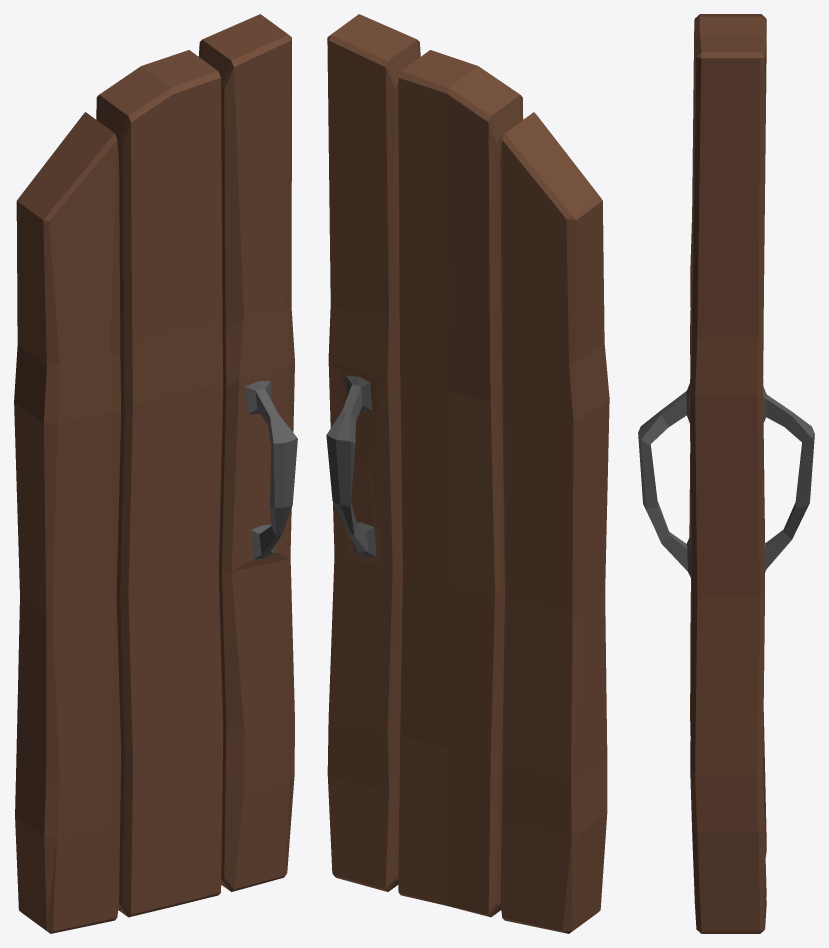
File: WoodenGateHalf.fbx
3 views of the same model, side by side, from view 1: azimuth 30°, elevation 25°; view 2: azimuth 150°, elevation 25°; view 3: azimuth 270°, elevation 25° (orthographic). The views are drawn at different scales.
Parts seen in each view (by area): view 1: WoodenGateHalf; view 2: WoodenGateHalf; view 3: WoodenGateHalf.
Boxes of the visible parts, <box> form: WoodenGateHalf: <box>14,14,297,933</box>; WoodenGateHalf: <box>326,14,609,933</box>; WoodenGateHalf: <box>638,14,814,933</box>.
Bounding box in the file's own units: 80.2 × 257 × 46.47.
Materials: 1 (1 with a texture image).
